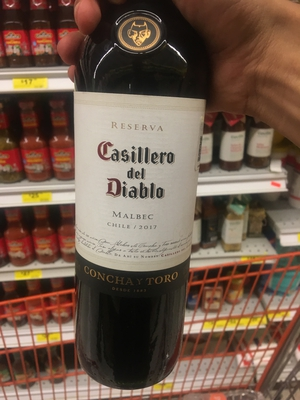casillero del diablo malbec: (66, 14, 218, 384)
